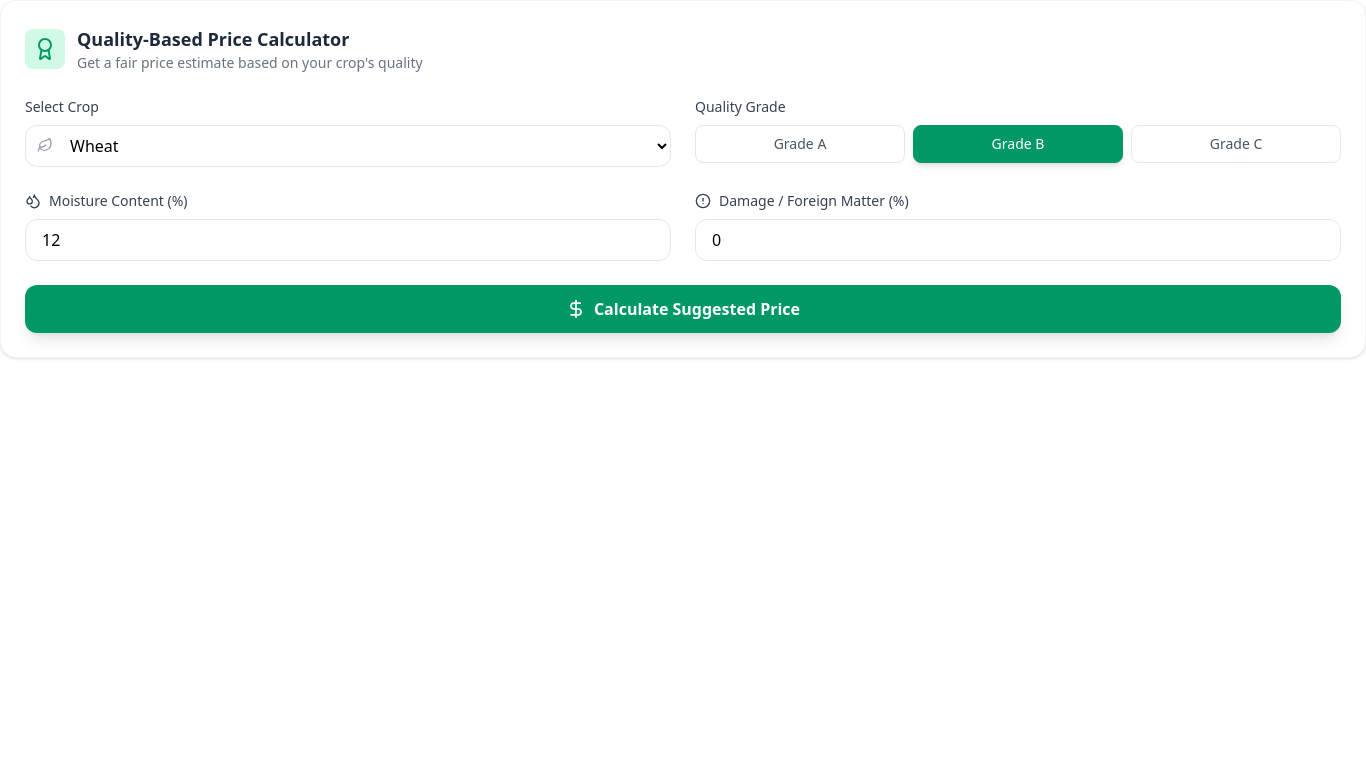
Test case: QualityPriceCalculator Component › submits form and displays results
The image size is (1366, 768).
Click the button "Calculate Suggested Price".
click(683, 309)  # box [25,285,1341,333]
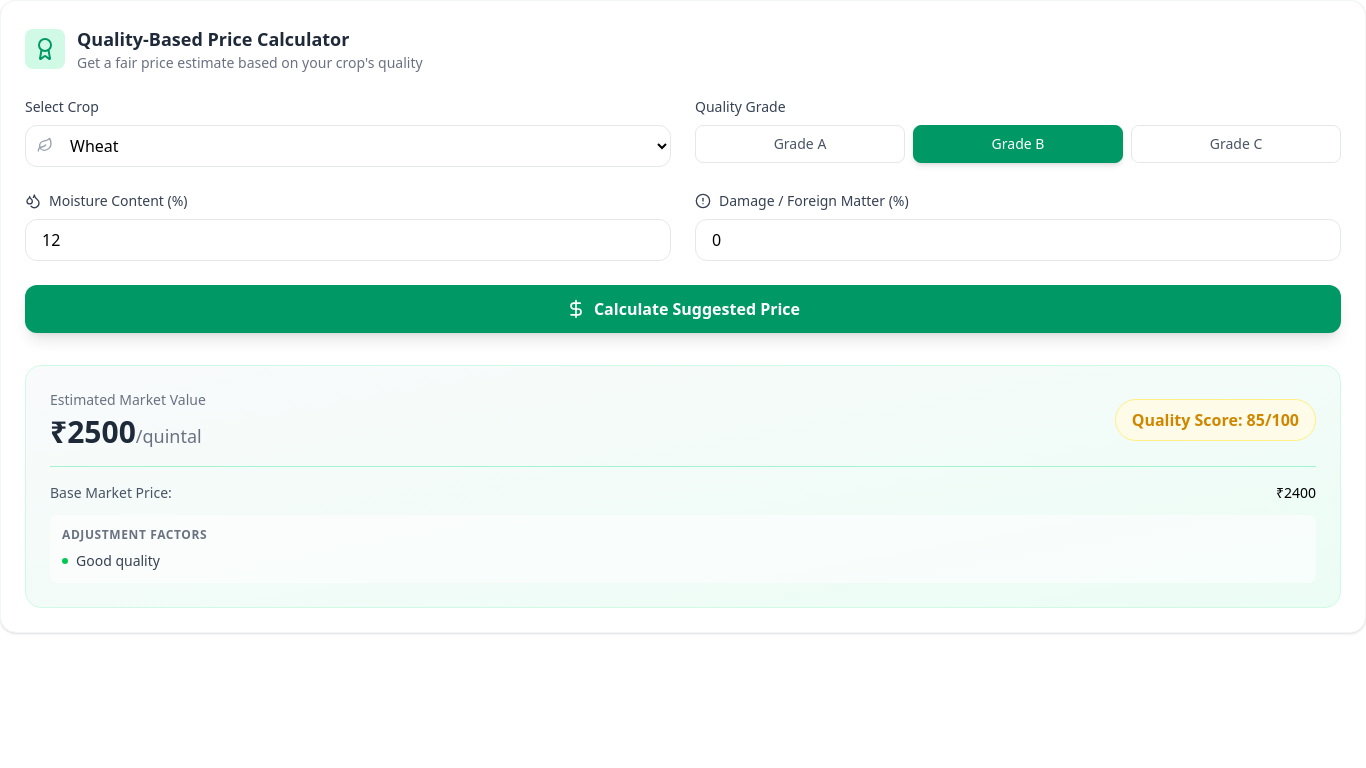
Now the heading "₹2500/quintal" is shown, box [50,414,206,450]
Now the text "Quality Score: 85/100" is shown, box [1132,409,1299,431]
Now the text "₹2400" is shown, box [1276,483,1316,503]
